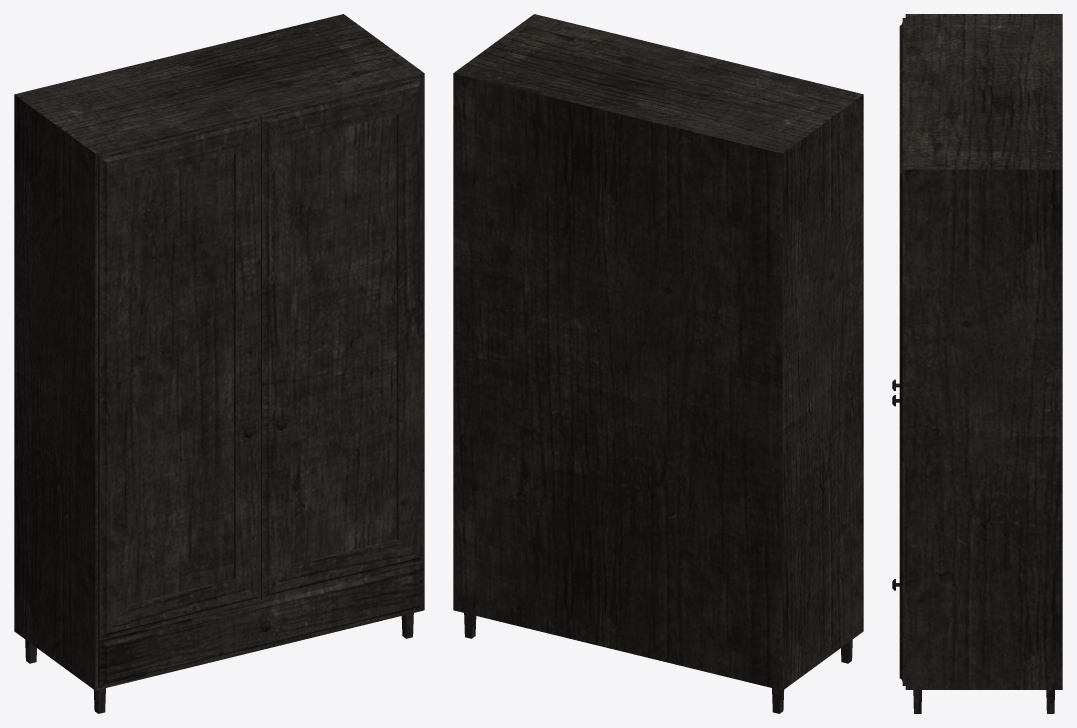
The model's file is wardrobe_mp_1.obj.
3 views of the same model, side by side, from view 1: azimuth 30°, elevation 25°; view 2: azimuth 150°, elevation 25°; view 3: azimuth 270°, elevation 25° (orthographic). The views are drawn at different scales.
Visible parts, largest first — view 1: wardrobe_mp_1_door_2, wardrobe_mp_1_door_1, wardrobe_mp_1, wardrobe_mp_1_drawer; view 2: wardrobe_mp_1; view 3: wardrobe_mp_1, wardrobe_mp_1_door_2, wardrobe_mp_1_door_1, wardrobe_mp_1_drawer.
Part boxes in pixels (left/top/right/bottom): wardrobe_mp_1_door_2: left=260, top=77, right=423, bottom=599; wardrobe_mp_1_door_1: left=98, top=116, right=260, bottom=639; wardrobe_mp_1: left=14, top=14, right=424, bottom=713; wardrobe_mp_1_drawer: left=98, top=561, right=423, bottom=688; wardrobe_mp_1: left=453, top=14, right=863, bottom=713; wardrobe_mp_1: left=905, top=14, right=1062, bottom=713; wardrobe_mp_1_door_2: left=892, top=95, right=905, bottom=638; wardrobe_mp_1_door_1: left=892, top=18, right=905, bottom=390; wardrobe_mp_1_drawer: left=892, top=579, right=905, bottom=685.
Size of the model in its own units: 1.22 by 2 by 0.5645.
